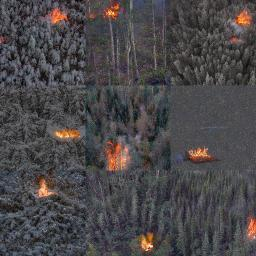Small fire: (105, 140, 132, 171), (52, 121, 82, 144), (30, 178, 56, 199), (136, 230, 156, 255), (186, 145, 213, 162), (46, 8, 70, 26), (243, 218, 256, 243), (102, 3, 121, 19), (238, 10, 253, 26), (227, 32, 243, 45)
